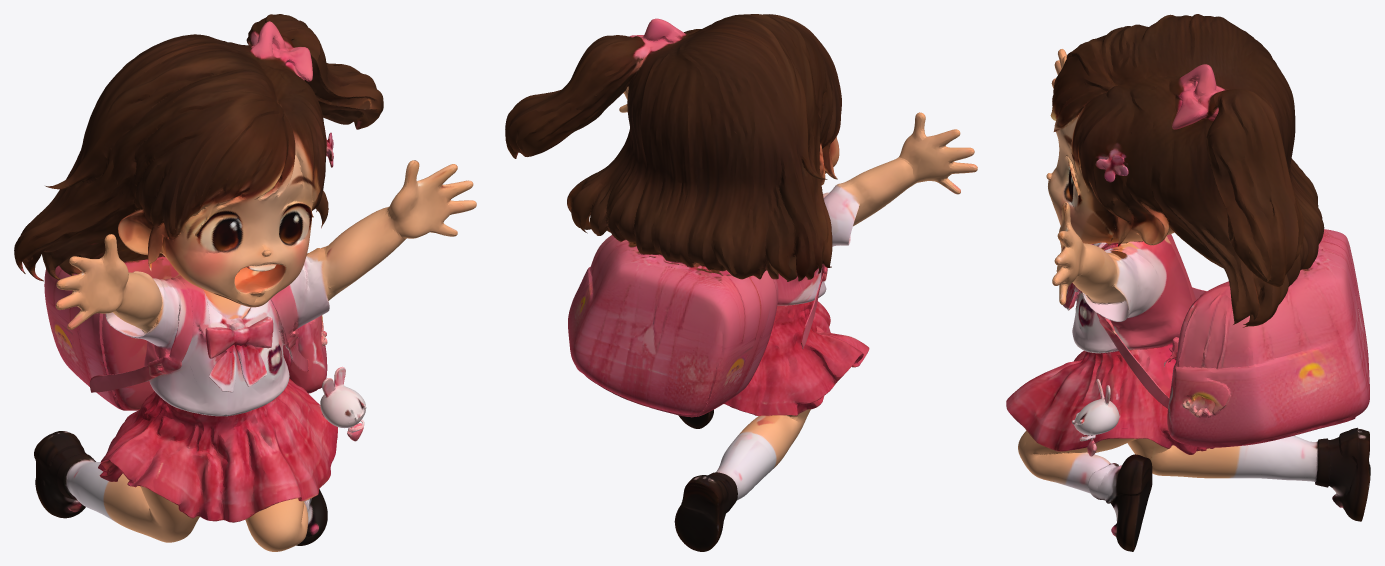
The model's file is dadah.glb.
3 views of the same model, side by side, from view 1: azimuth 30°, elevation 25°; view 2: azimuth 150°, elevation 25°; view 3: azimuth 270°, elevation 25° (orthographic). The views are drawn at different scales.
Parts seen in each view (by area): view 1: model; view 2: model; view 3: model.
Boxes of the visible parts, x1,y1,x2,y2 form: model: [14, 14, 476, 551]; model: [505, 14, 977, 551]; model: [1006, 14, 1370, 551].
Bounding box in the file's own units: 1.63 × 1.88 × 1.2.
Materials: 1 (1 with a texture image).
